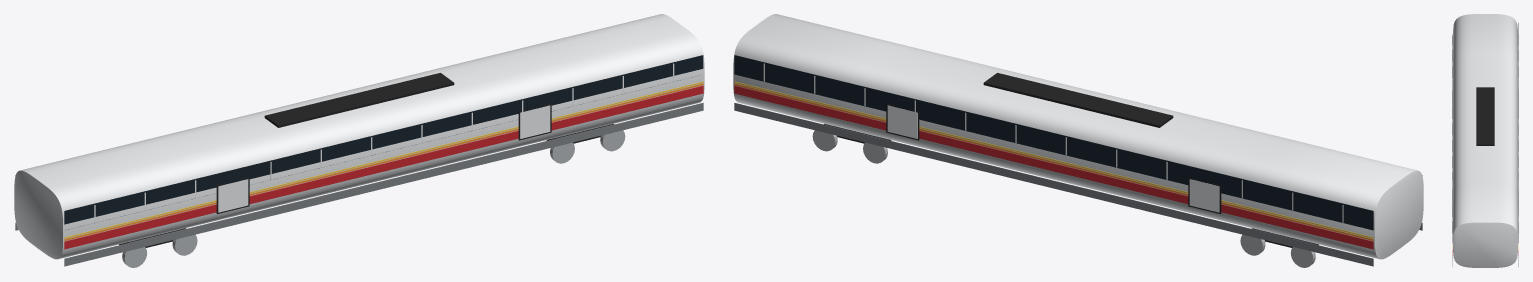
Rendered from cr400af-bs-middle-lod-v002.glb.
3 renders of one model, left to right at view 1: azimuth 30°, elevation 25°; view 2: azimuth 150°, elevation 25°; view 3: azimuth 270°, elevation 25°, orthographic. The views are drawn at different scales.
Visible parts, largest first — view 1: GEO-middle-lod, M-door_-1_6, M-door_-1_-6; view 2: GEO-middle-lod, M-door_1_6, M-door_1_-6; view 3: GEO-middle-lod.
Boxes of the visible parts, bbox=[...] form: GEO-middle-lod: bbox=[14, 14, 704, 267]; M-door_-1_6: bbox=[520, 105, 550, 138]; M-door_-1_-6: bbox=[218, 179, 248, 212]; GEO-middle-lod: bbox=[733, 14, 1423, 267]; M-door_1_6: bbox=[887, 105, 917, 138]; M-door_1_-6: bbox=[1189, 179, 1219, 212]; GEO-middle-lod: bbox=[1452, 14, 1518, 267].
Size of the model in its own units: 25.5 by 3.76 by 3.44.
